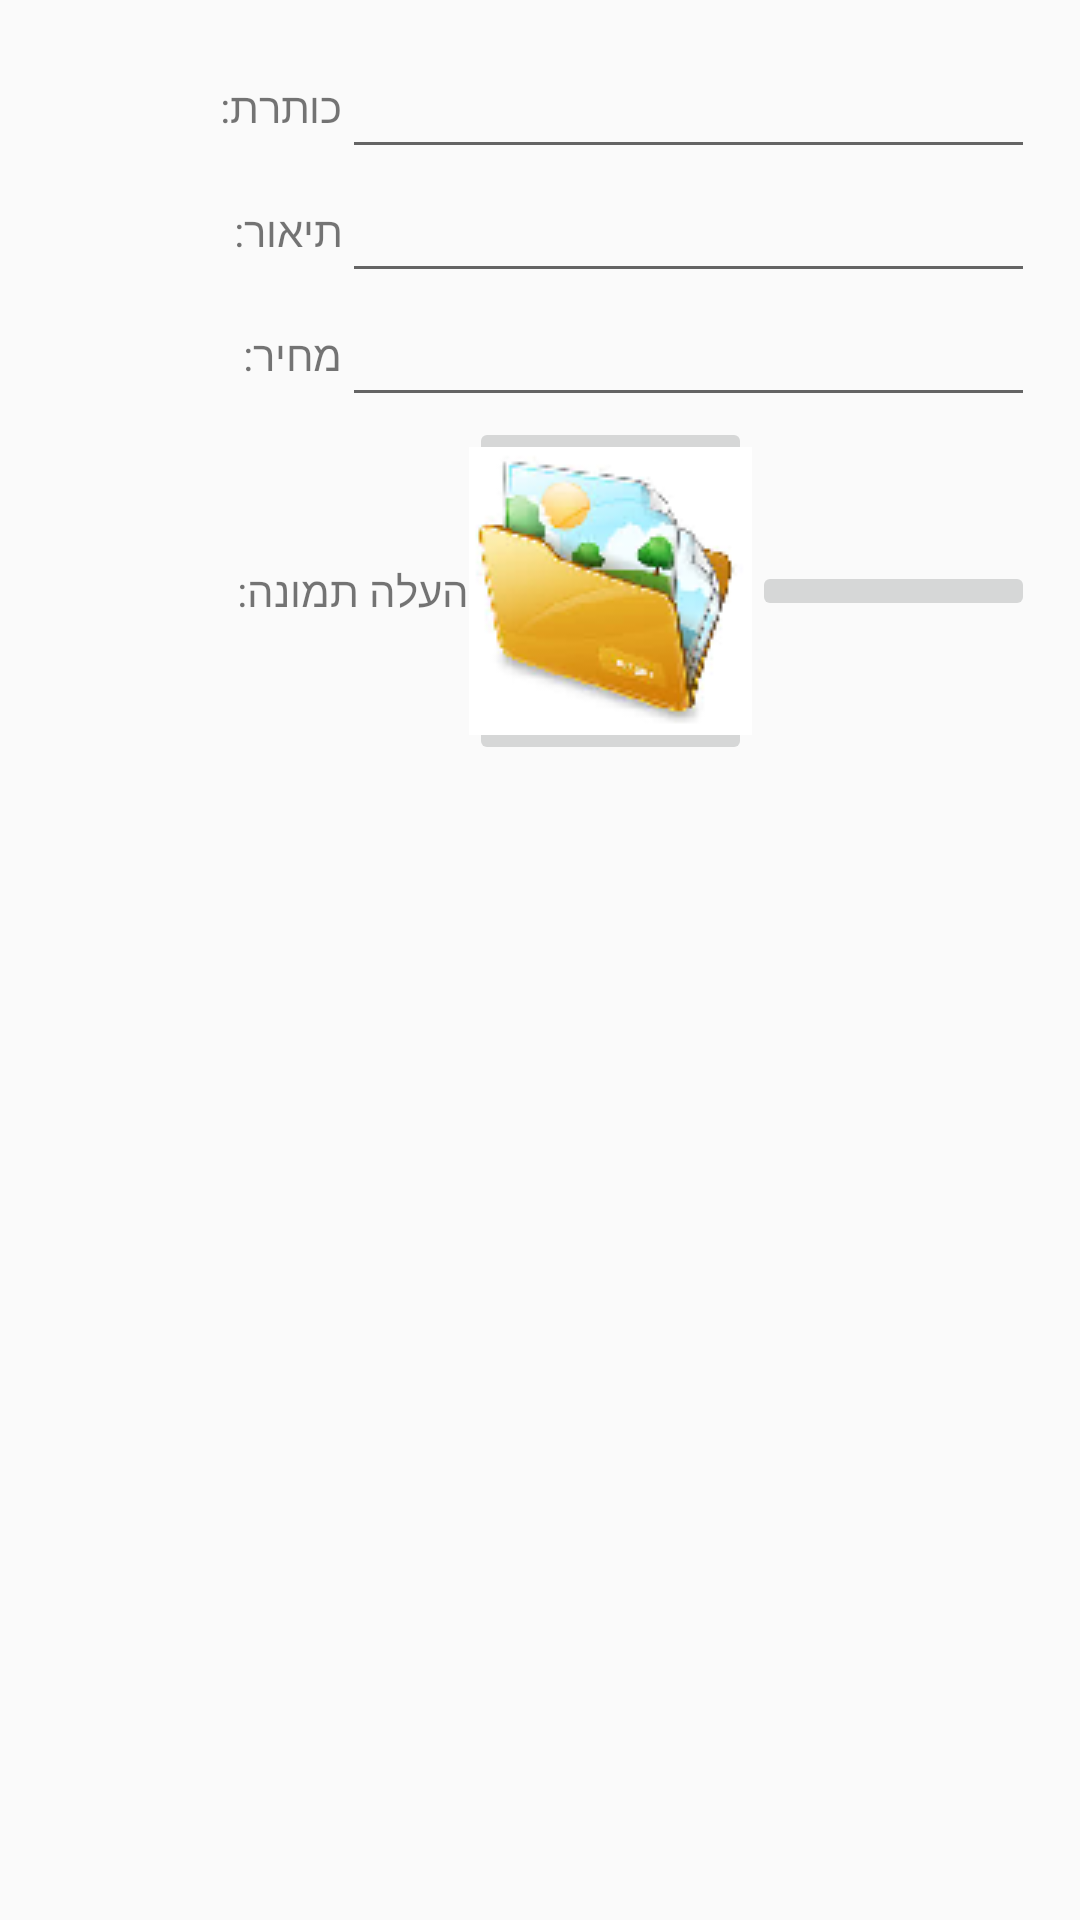

Locate icon controls on the screen. Image size 1080×1920, boxes as (x1, y1, x2, y2).
gallery: (478, 435, 740, 747)
